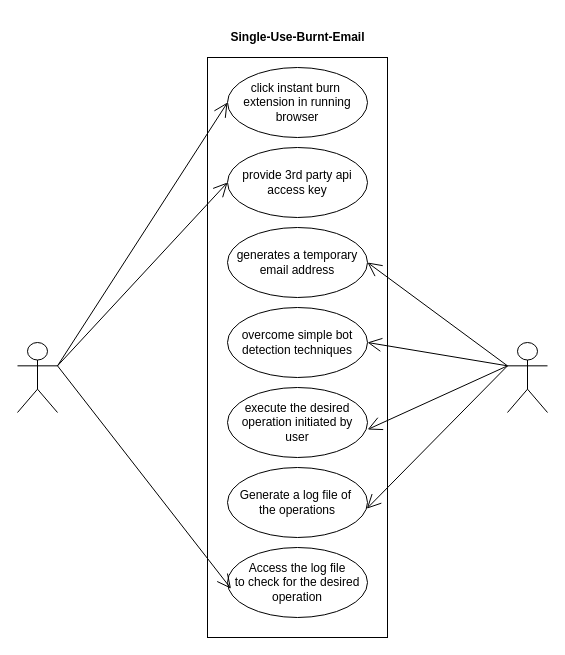
This 565x655 diagram has some shape labels left out. The centre of each missing label's shape, as x and y in pixels:
"Bot" goes at (527,377).
"User" goes at (37,377).
